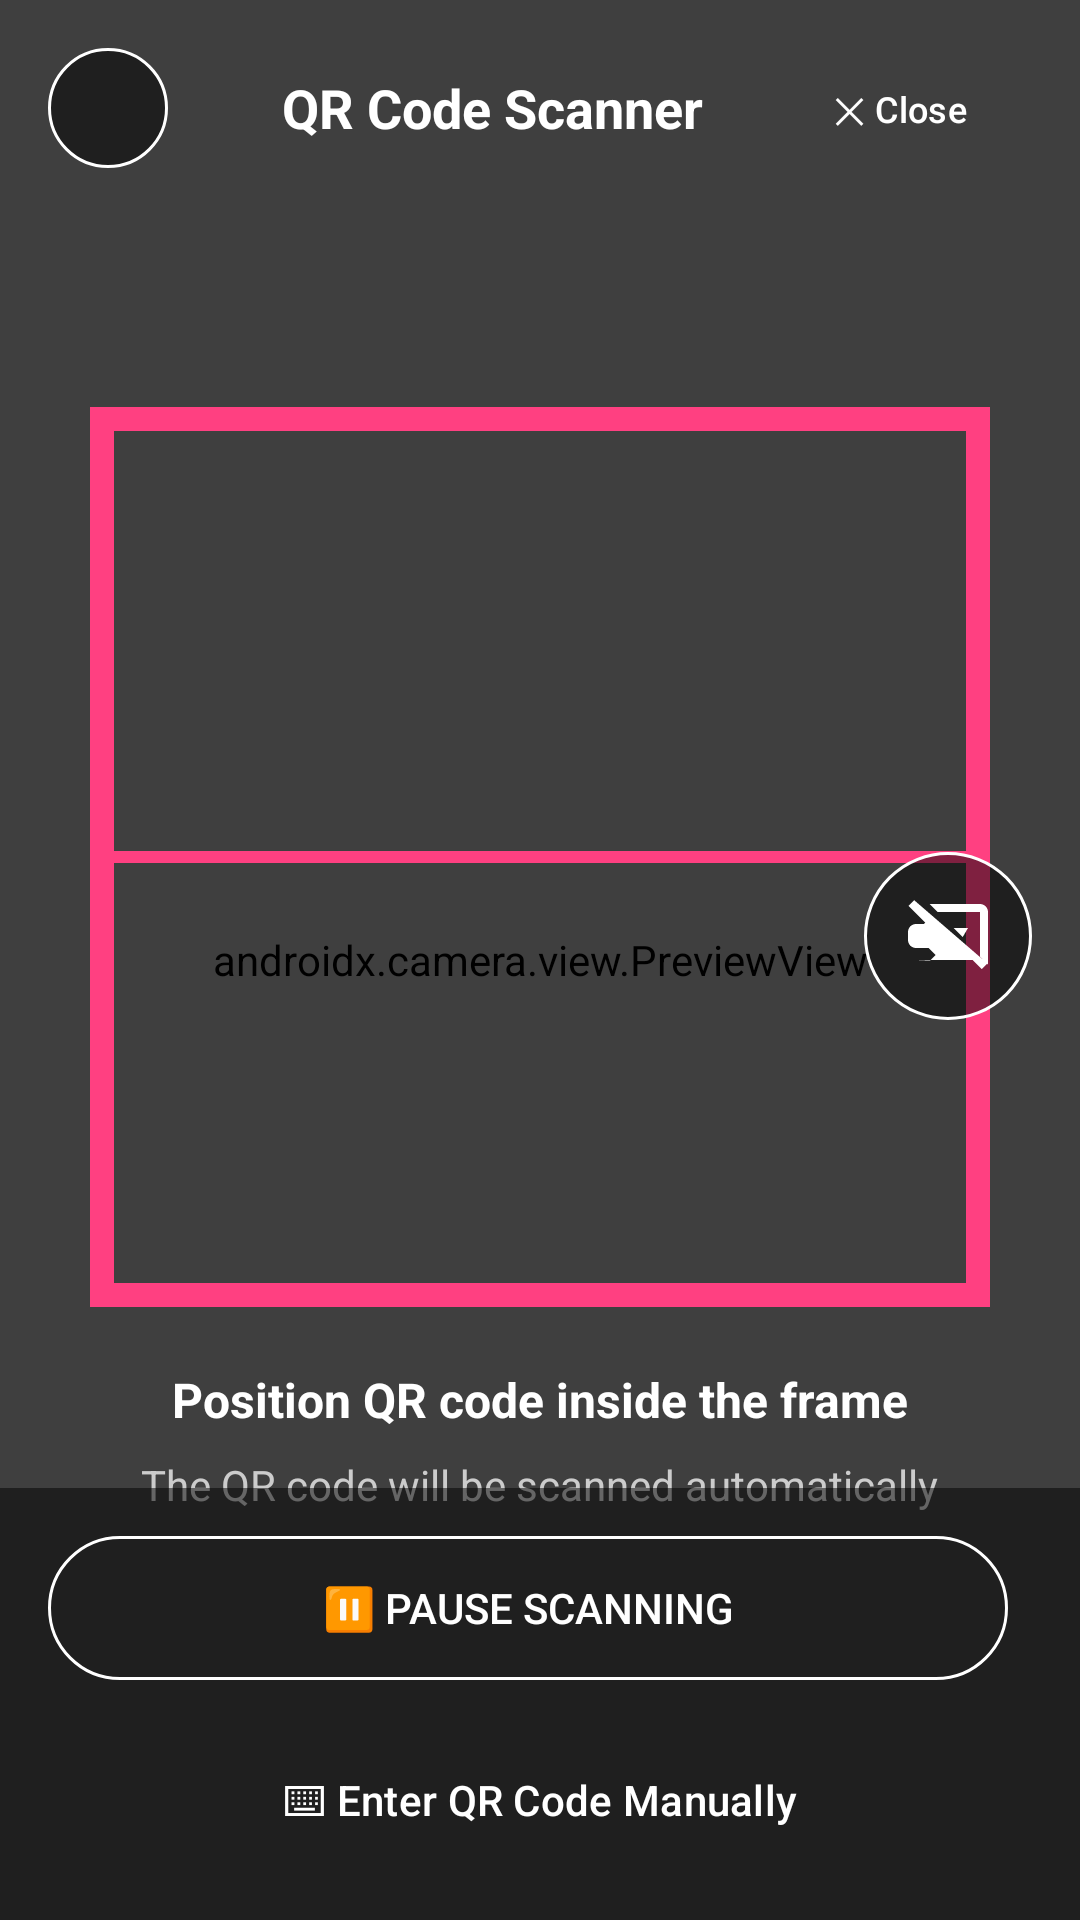

Icons on this 1080×1920 Android screen, each with the point to tap as (x=x, y=y):
Toggle Flash: (x=948, y=936)
